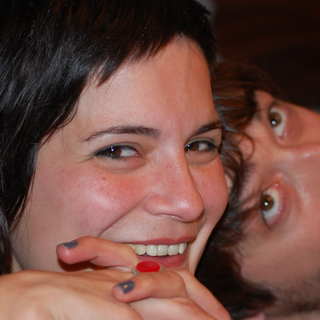eye: (90, 140, 143, 164), (183, 132, 223, 159)
